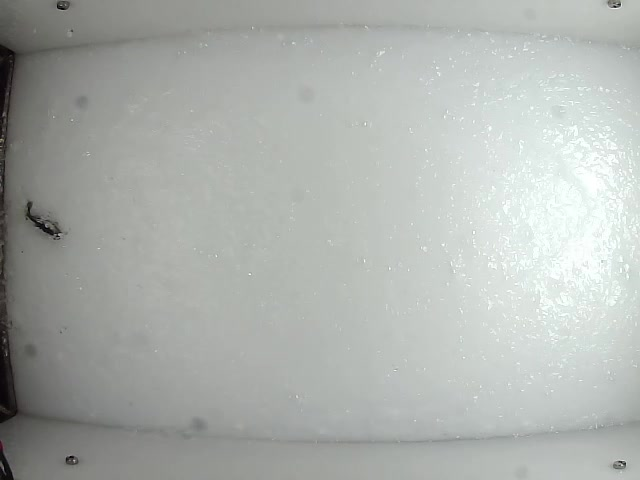fish: (22, 197, 62, 239)
